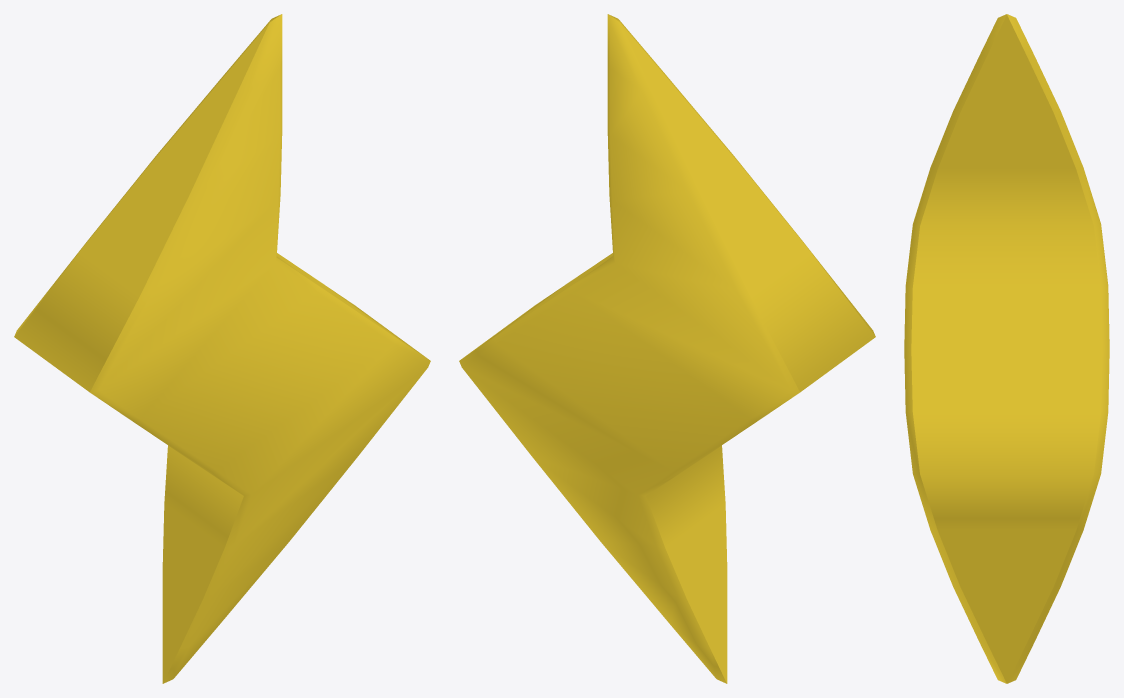
File: lightning.glb
The picture shows the model from 3 angles, left to right: view 1: azimuth 30°, elevation 25°; view 2: azimuth 150°, elevation 25°; view 3: azimuth 270°, elevation 25°; orthographic projection. The views are drawn at different scales.
Visible parts, largest first — view 1: ItemThunder__m_ItemThunder; view 2: ItemThunder__m_ItemThunder; view 3: ItemThunder__m_ItemThunder.
Boxes of the visible parts, <box> form: ItemThunder__m_ItemThunder: <box>14,14,430,683</box>; ItemThunder__m_ItemThunder: <box>459,14,875,683</box>; ItemThunder__m_ItemThunder: <box>904,14,1109,683</box>.
Bounding box in the file's own units: 4.61 × 8.27 × 2.09.
1 material, 1 textured.
